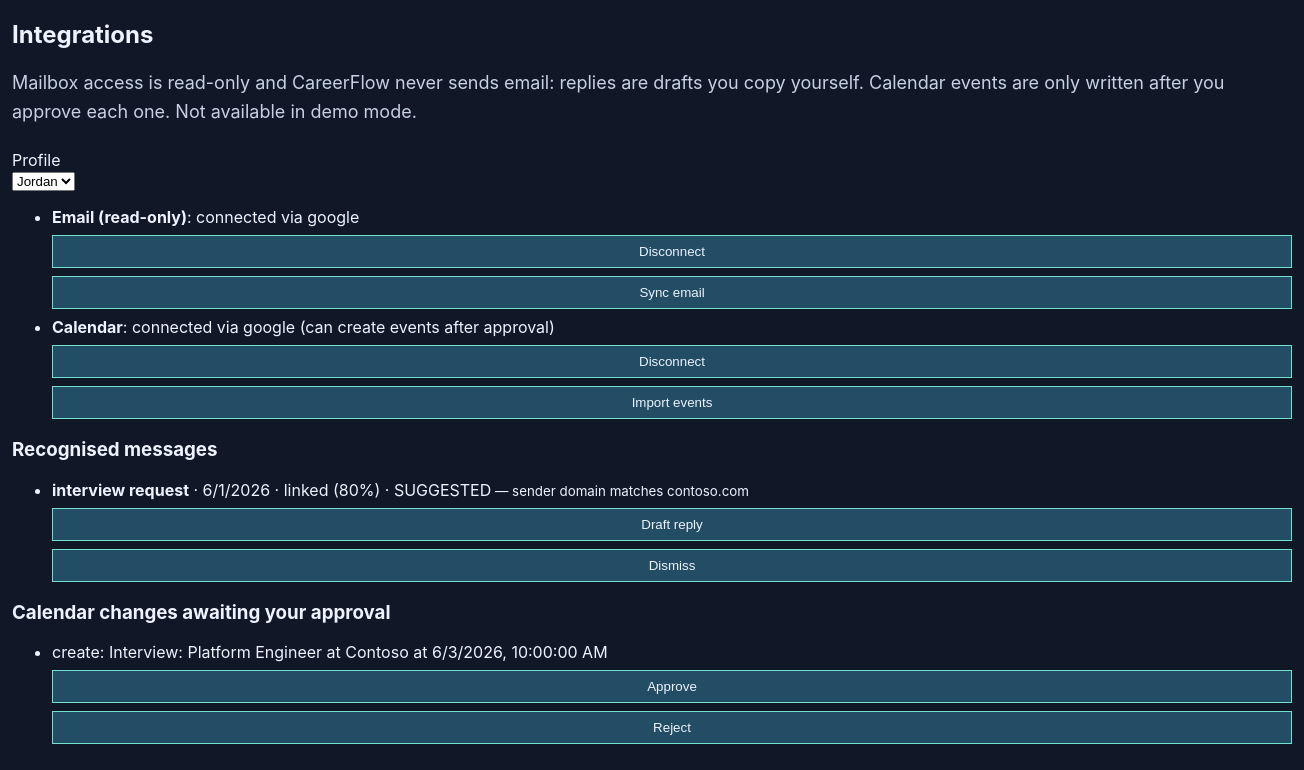
Test case: IntegrationsPage › has no send action; drafts are shown for the user to copy
This screenshot has width=1304, height=770.
Check: the text "interview request" is shown, box [52, 480, 189, 500]
Click the button "Draft reply".
click(672, 524)  # box [52, 508, 1292, 541]
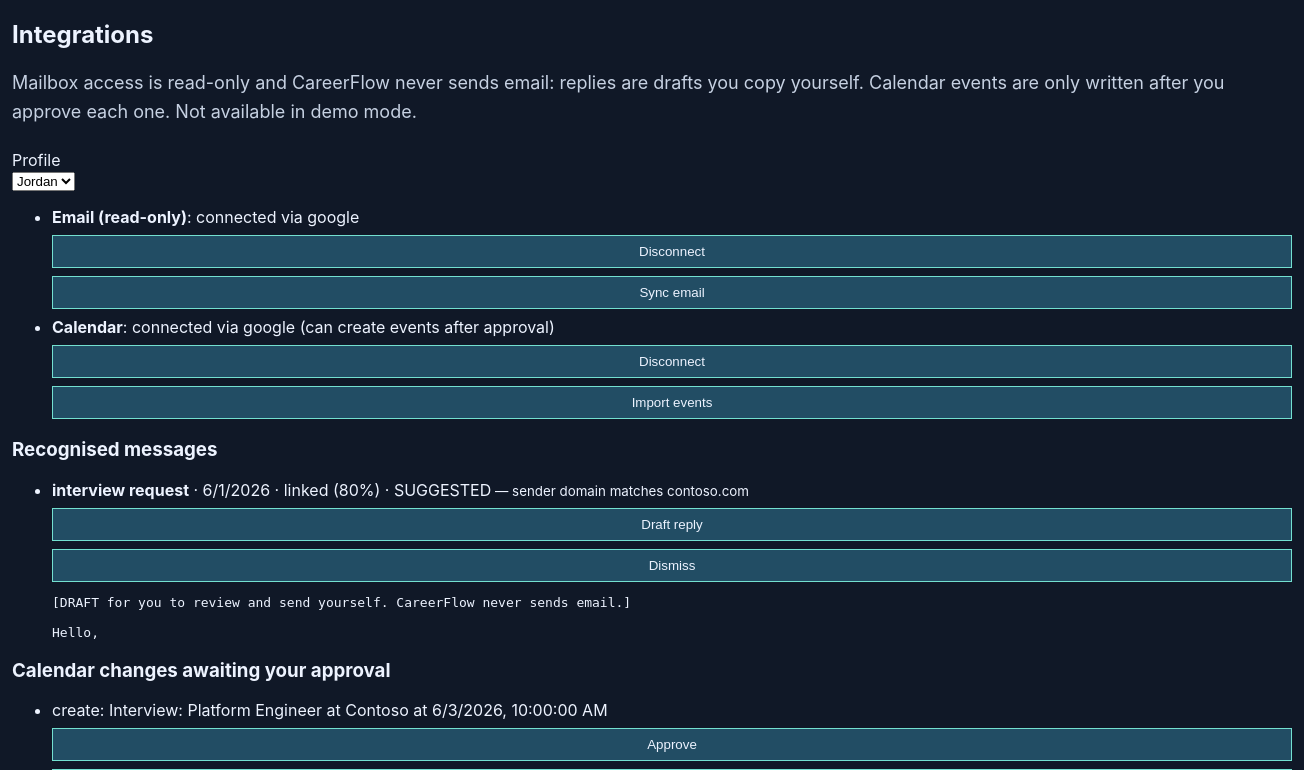
Check: the text named "Reply draft" shows "CareerFlow never sends email", box [52, 595, 631, 640]
